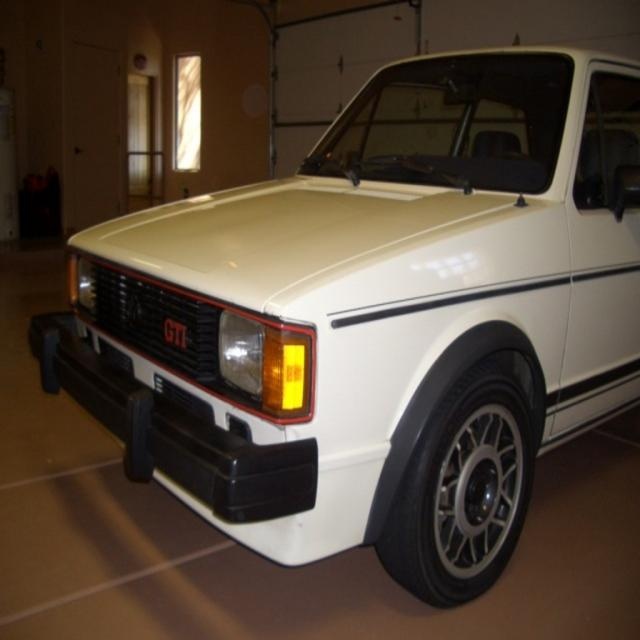other: (21, 33, 638, 614)
